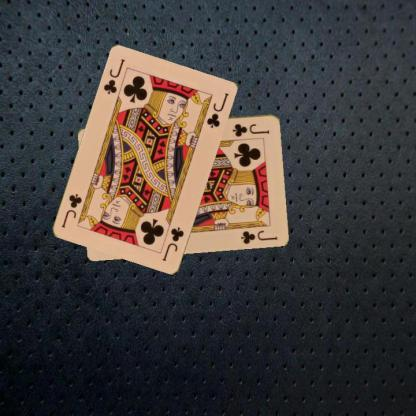Jc: (101, 57, 127, 96), (160, 225, 186, 263), (230, 121, 271, 138)
